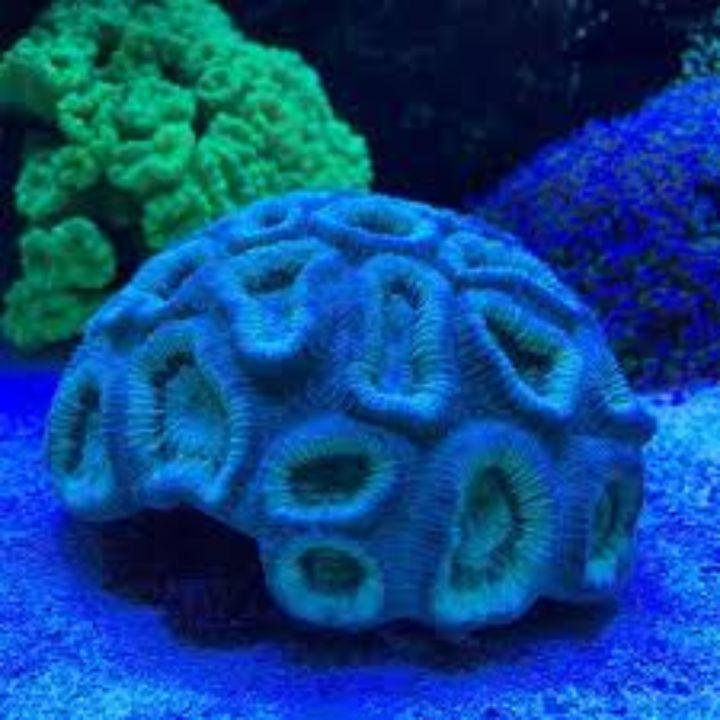Healthy Coral: (97, 191, 657, 643)
